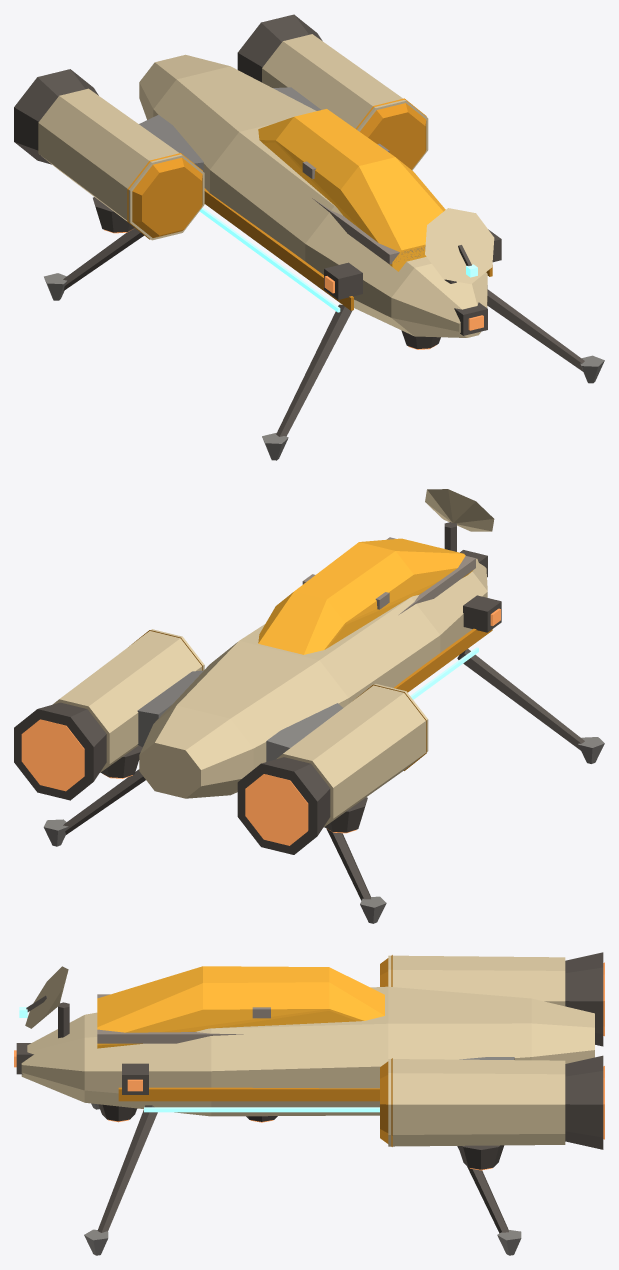
Rendered from letoun-kolibrik.glb.
3 renders of one model, top to bottom at view 1: azimuth 30°, elevation 25°; view 2: azimuth 150°, elevation 25°; view 3: azimuth 270°, elevation 25°, orthographic. The views are drawn at different scales.
Visible parts, largest first — view 1: kolibrik, skener; view 2: kolibrik, skener; view 3: kolibrik, skener.
Boxes of the visible parts, x1,y1,x2,y2 form: kolibrik: (14,14,604,460); skener: (425,208,494,284); kolibrik: (14,537,604,923); skener: (425,489,494,551); kolibrik: (14,952,604,1255); skener: (19,966,69,1038).
Size of the model in its own units: 4.4 by 2.77 by 7.01.
